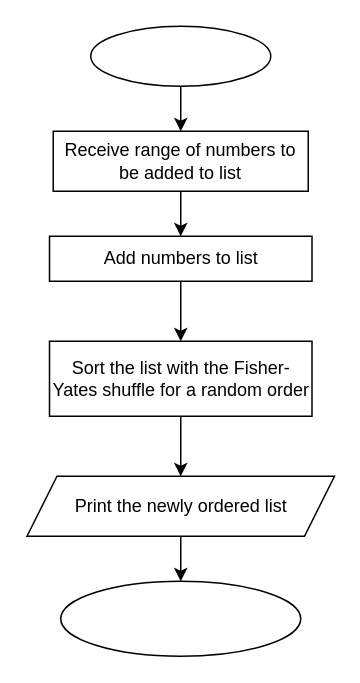
Some shapes in this 360 by 683 pixel diagram are drawn without their labels. The box of each missing label's shape, as (x1, y1, x2, y2) in pixels:
End Program: (59, 580, 301, 656)
Start Program: (89, 25, 271, 86)
